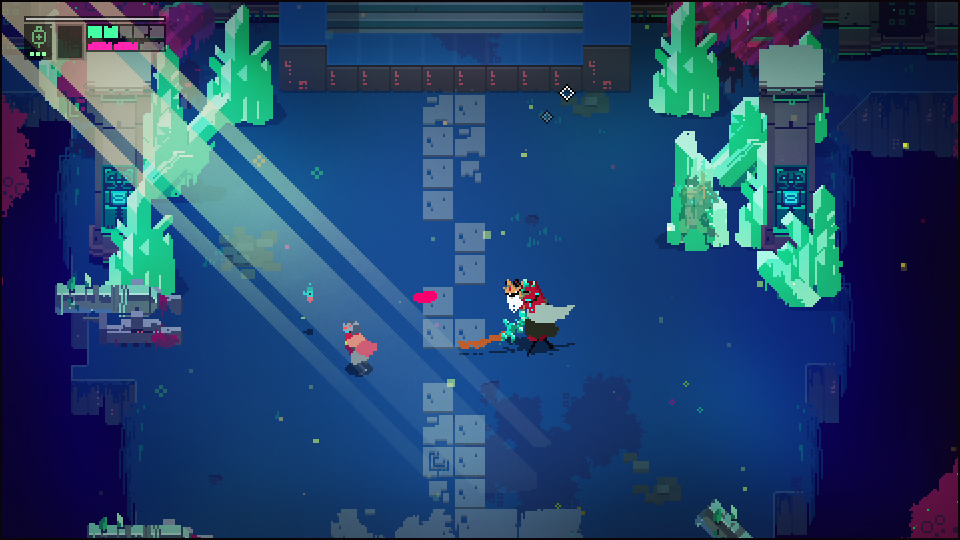hanged_man: (493, 278, 570, 354)
player: (341, 324, 376, 372)
